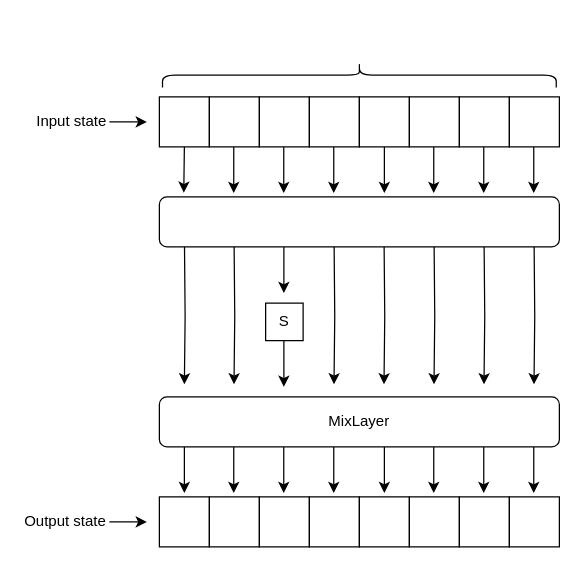
Some shapes in this 581 by 569 pixel diagram are drawn without their labels. Here are the shapes that lost their labels. From the top down, the box of each, then its label:
(161, 61, 556, 88): state width
(158, 196, 559, 247): AddRoundConstants
